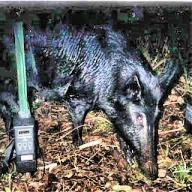boar: (17, 22, 178, 180)
